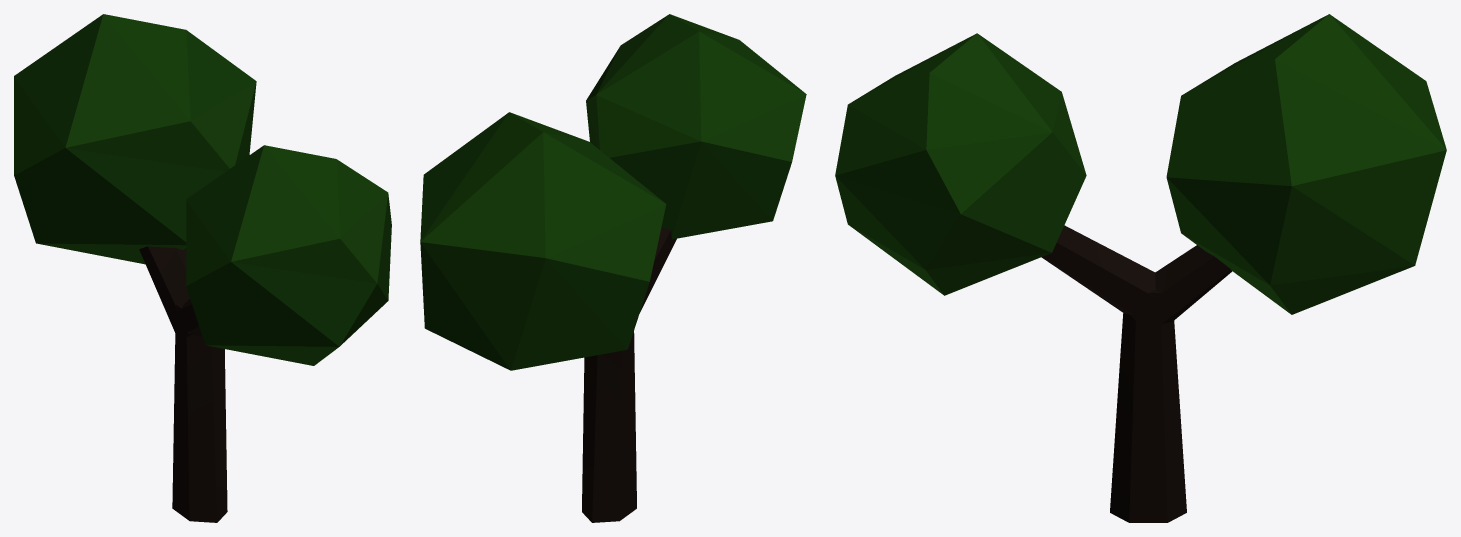
File: tree2.obj
3 views of the same model, side by side, from view 1: azimuth 30°, elevation 25°; view 2: azimuth 150°, elevation 25°; view 3: azimuth 270°, elevation 25° (orthographic). The views are drawn at different scales.
Visible parts, largest first — view 1: Icosphere.001; view 2: Icosphere.001; view 3: Icosphere.001.
Boxes of the visible parts, x1,y1,x2,y2 form: Icosphere.001: (14, 14, 391, 522); Icosphere.001: (420, 14, 806, 522); Icosphere.001: (835, 14, 1446, 522).
Size of the model in its own units: 2.38 by 4.27 by 4.83.
